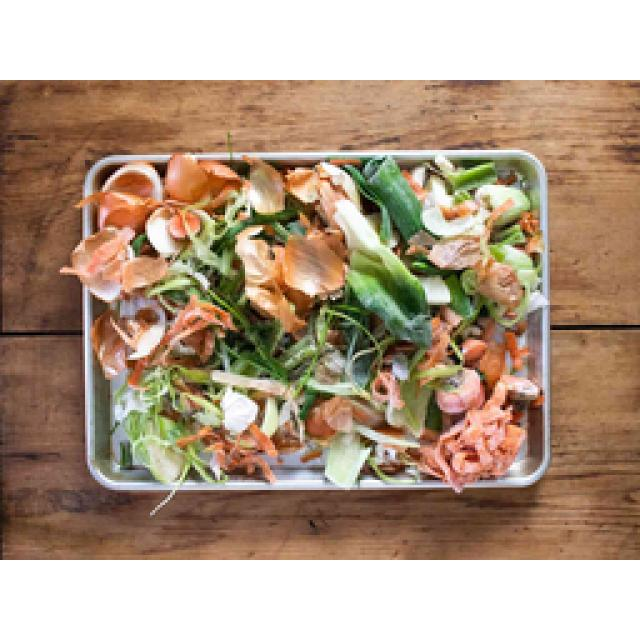food_waste: (60, 152, 545, 512)
